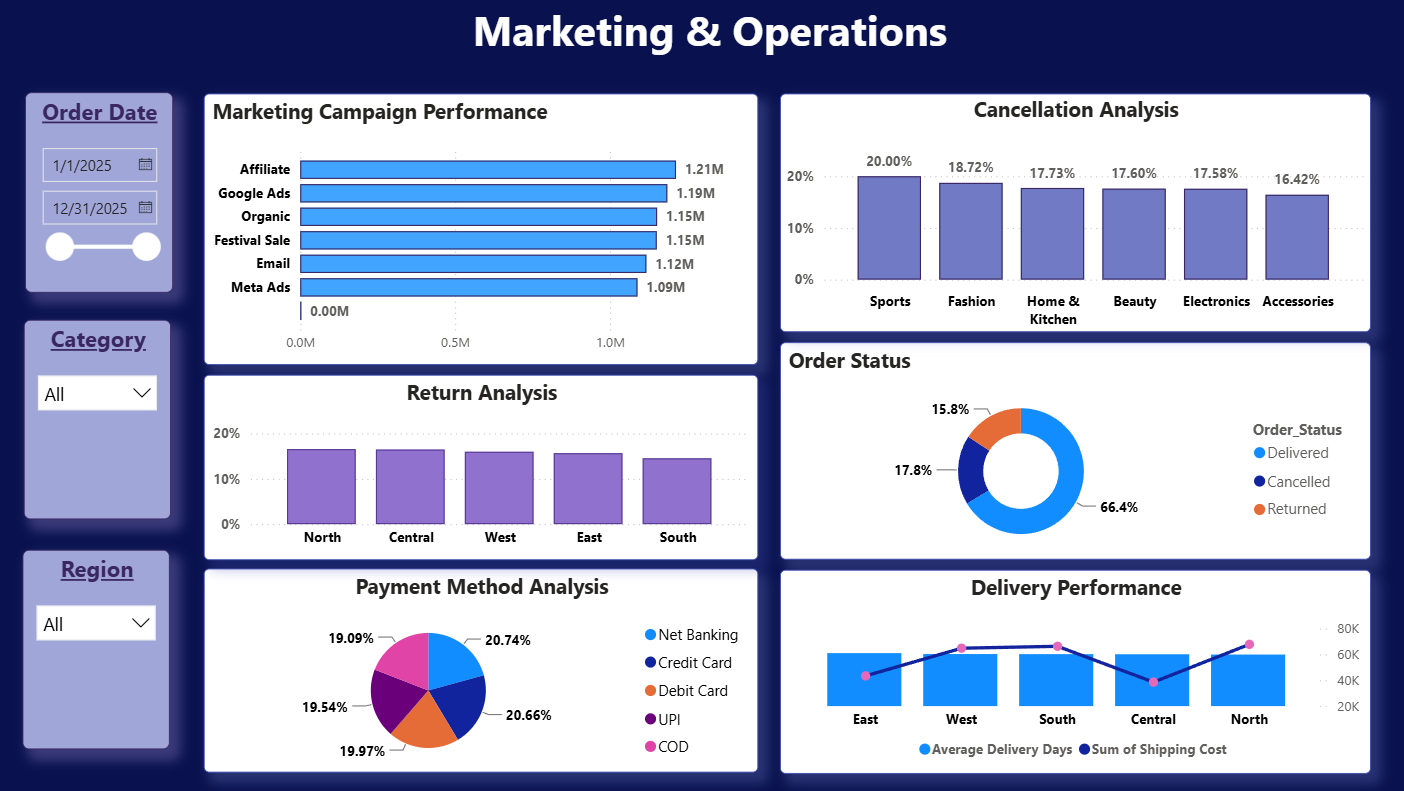

Layout of this report page (visuals, bound fields, positions):
{"tool":"powerbi","page":{"name":"Marketing & Operations","canvas":[1280,720],"ordinal":2},"visuals":[{"type":"textbox","box":[0,0,1280.3,63.6],"z":0},{"type":"slicer","title":"Order Date","fields":{"Values":["Table1.Order_Date"]},"box":[22.1,87.2,133.3,181],"z":1000},{"type":"slicer","title":"Category","fields":{"Values":["Table1.Category"]},"box":[20.9,291.9,133,180],"z":2000},{"type":"slicer","title":"Region","fields":{"Values":["Table1.Region"]},"box":[19.8,498.8,133,180],"z":3000},{"type":"clusteredBarChart","title":"Marketing Campaign Performance","fields":{"Category":["Table1.Marketing_Campaign"],"Y":["Table1.Total_Revenue"]},"box":[183.8,87.5,500,245],"z":4000},{"type":"pieChart","title":"Payment Method Analysis","fields":{"Category":["Table1.Payment_Method"],"Y":["Table1.Total_Orders"]},"box":[183.8,516.2,500,183.8],"z":5000},{"type":"donutChart","title":"Order Status","fields":{"Category":["Table1.Order_Status"],"Y":["Table1.Total_Orders"]},"box":[703.8,312.5,532.5,196.2],"z":6000},{"type":"clusteredColumnChart","title":"Cancellation Analysis","fields":{"Category":["Table1.Category"],"Y":["Table1.Cancellation_Rate"]},"box":[703.8,87.5,532.5,215],"z":7000},{"type":"lineClusteredColumnComboChart","title":"Delivery Performance","fields":{"Category":["Table1.Region"],"Y":["Table1.Average_Delivery_Days"],"Y2":["Sum(Table1.Shipping_Cost)"]},"box":[703.8,517.5,532.5,183.8],"z":8000},{"type":"clusteredColumnChart","title":"Return Analysis","fields":{"Category":["Table1.Region"],"Y":["Table1.Return_Rate"]},"box":[183.8,341.9,500,167.5],"z":9000}]}

Visuals, with their boxes in screenshot pixels (x1, y1, x2, y2), scaled from the page's 1280x720 canvas onto the 1404x791 screenshot:
textbox: x1=0, y1=0, x2=1403, y2=70
"Order Date" slicer: x1=24, y1=96, x2=170, y2=295
"Category" slicer: x1=23, y1=321, x2=169, y2=518
"Region" slicer: x1=22, y1=548, x2=168, y2=746
"Marketing Campaign Performance" clusteredBarChart: x1=202, y1=96, x2=750, y2=365
"Payment Method Analysis" pieChart: x1=202, y1=567, x2=750, y2=769
"Order Status" donutChart: x1=772, y1=343, x2=1356, y2=559
"Cancellation Analysis" clusteredColumnChart: x1=772, y1=96, x2=1356, y2=332
"Delivery Performance" lineClusteredColumnComboChart: x1=772, y1=569, x2=1356, y2=770
"Return Analysis" clusteredColumnChart: x1=202, y1=376, x2=750, y2=560
